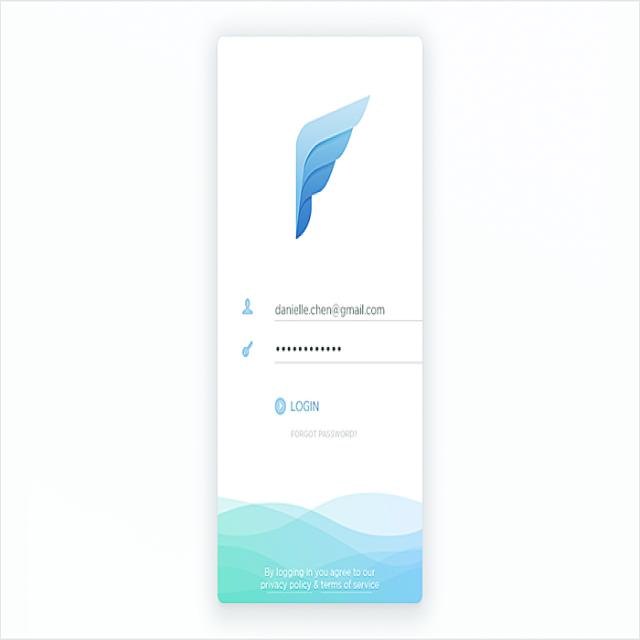Container: (213, 27, 424, 610)
Image: (287, 90, 377, 246)
Input-field: (243, 293, 425, 331), (274, 342, 424, 374)
Text: (265, 387, 328, 425), (287, 428, 357, 447)
navigation: (272, 393, 288, 419)
